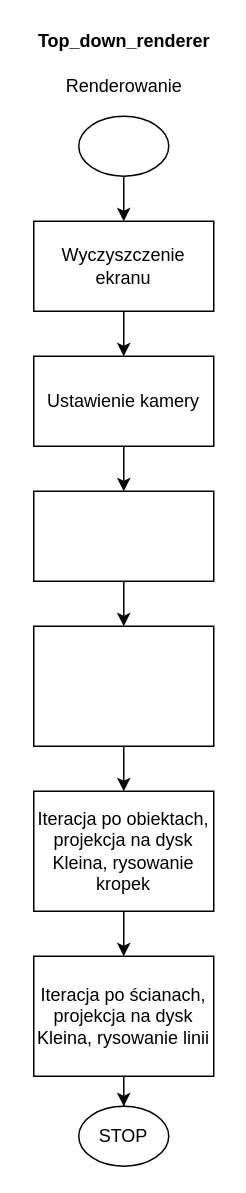
This 246x1193 diagram has some shape labels left out. Here are the shapes that lost their labels. From the top down, the centre of each, then its label:
At point (123, 145): "START".
At point (123, 535): "Rysowanie okręgu - obramówki".
At point (123, 685): "Rysowanie kropki - gracza".
